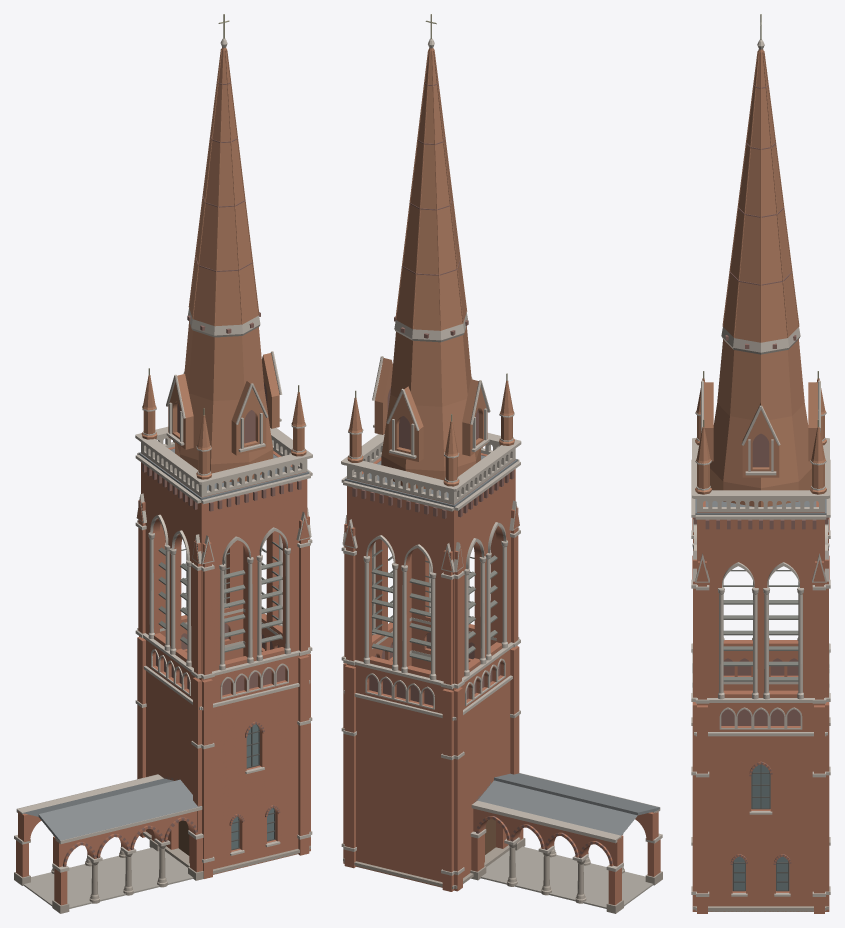
File: huangpu-holy-trinity-bell-tower-raw.glb
The picture shows the model from 3 angles, left to right: view 1: azimuth 30°, elevation 25°; view 2: azimuth 150°, elevation 25°; view 3: azimuth 270°, elevation 25°; orthographic projection. The views are drawn at different scales.
Visible parts, largest first — view 1: 圣三一基督教堂（独立钟塔与连接短廊）; view 2: 圣三一基督教堂（独立钟塔与连接短廊）; view 3: 圣三一基督教堂（独立钟塔与连接短廊）.
Boxes of the visible parts, bbox=[...] form: 圣三一基督教堂（独立钟塔与连接短廊）: bbox=[14, 14, 312, 913]; 圣三一基督教堂（独立钟塔与连接短廊）: bbox=[341, 14, 662, 913]; 圣三一基督教堂（独立钟塔与连接短廊）: bbox=[691, 14, 830, 913].
Size of the model in its own units: 15.36 by 48 by 6.96.
